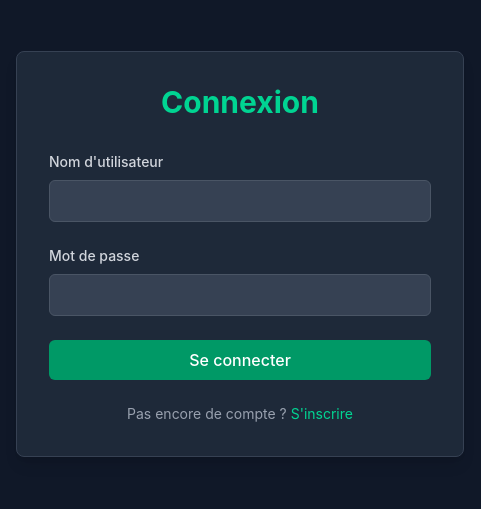
Test: Affiche un message d'erreur en cas d'échec de la connexion
Type "testuser" into the field labelled "Nom d'utilisateur" at (240, 201), box [49, 180, 431, 222]
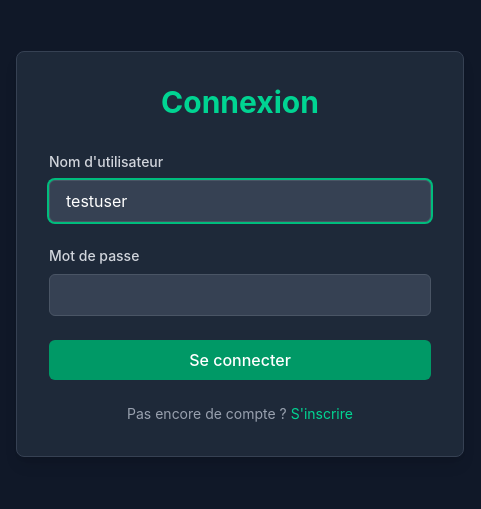
Type "wrongpassword" into the password field labelled "Mot de passe" at (240, 295), box [49, 274, 431, 316]
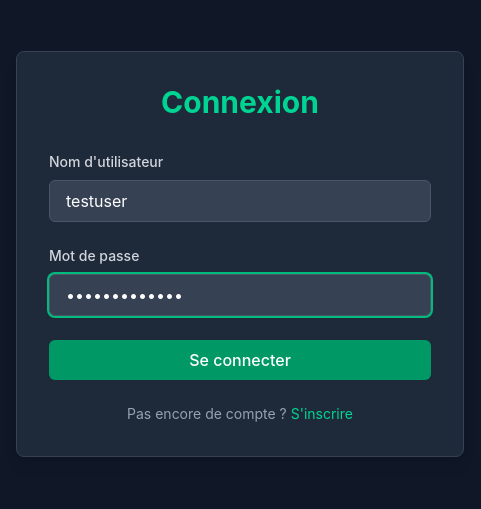
Click the button "Se connecter" at (240, 360), box [49, 340, 431, 380]
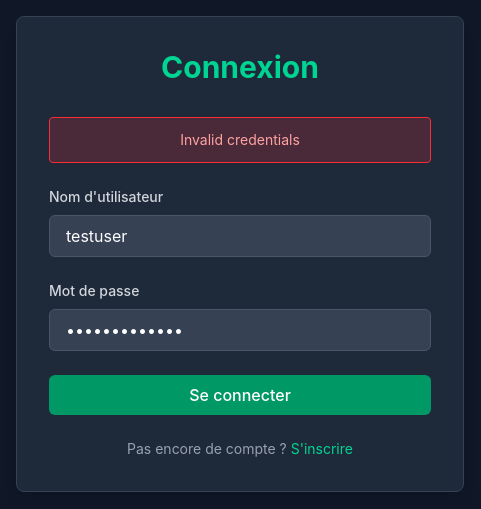
Expected: the text "Invalid credentials" is shown, [49, 117, 431, 163]
